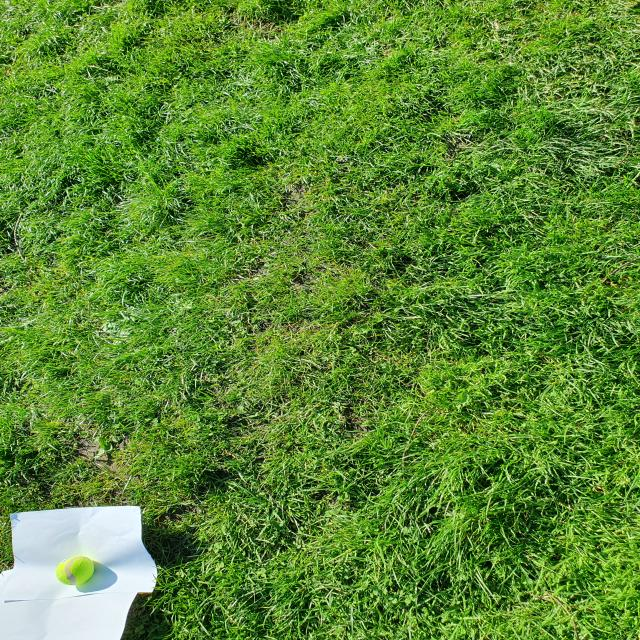green: (55, 555, 94, 586)
